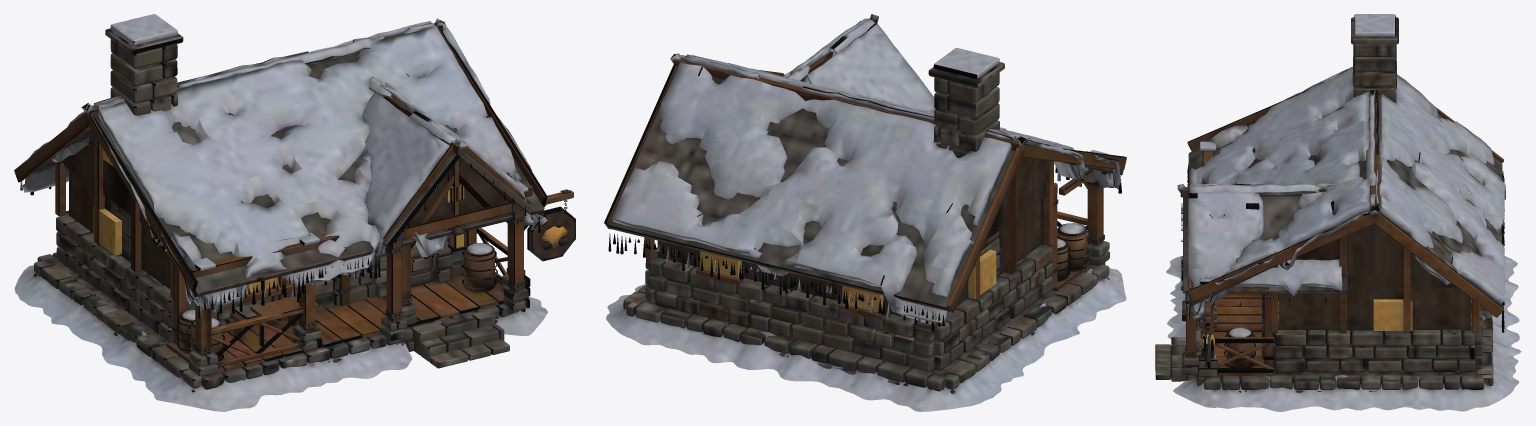
The model's file is bar.glb.
The picture shows the model from 3 angles, left to right: view 1: azimuth 30°, elevation 25°; view 2: azimuth 150°, elevation 25°; view 3: azimuth 270°, elevation 25°; orthographic projection. The views are drawn at different scales.
Visible parts, largest first — view 1: model; view 2: model; view 3: model.
Part boxes in pixels (<box>): model: <box>14,14,575,411</box>; model: <box>604,14,1126,411</box>; model: <box>1155,14,1521,411</box>.
Bounding box in the file's own units: 9.1 × 6.15 × 8.01.
2 materials, 2 textured.
